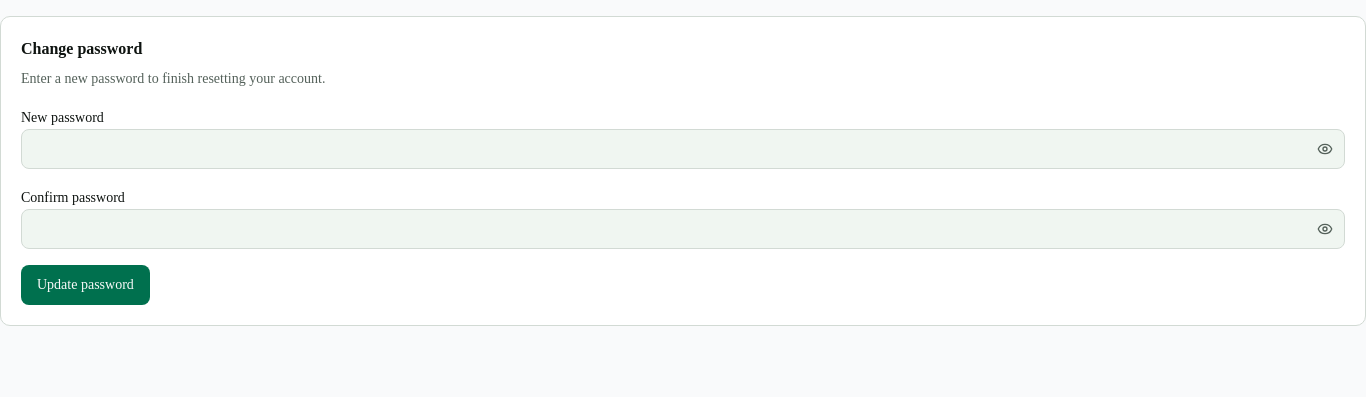
ChangePasswordForm › blocks mismatched password confirmation
The width and height of the screenshot is (1366, 397).
Type "secret123" into the password field labelled "New password" at (683, 149), box [21, 129, 1345, 169]
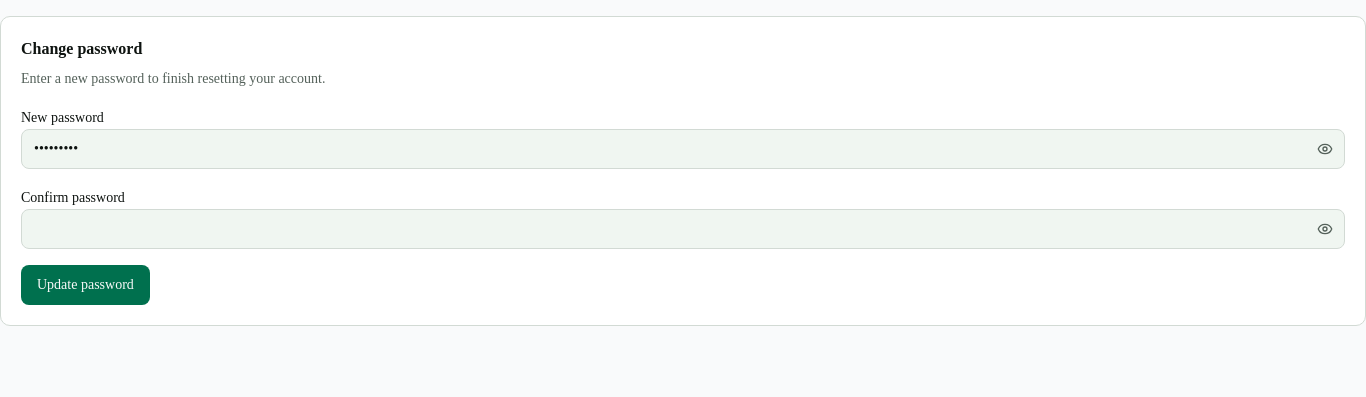
Type "different123" into the password field labelled "Confirm password" at (683, 229), box [21, 209, 1345, 249]
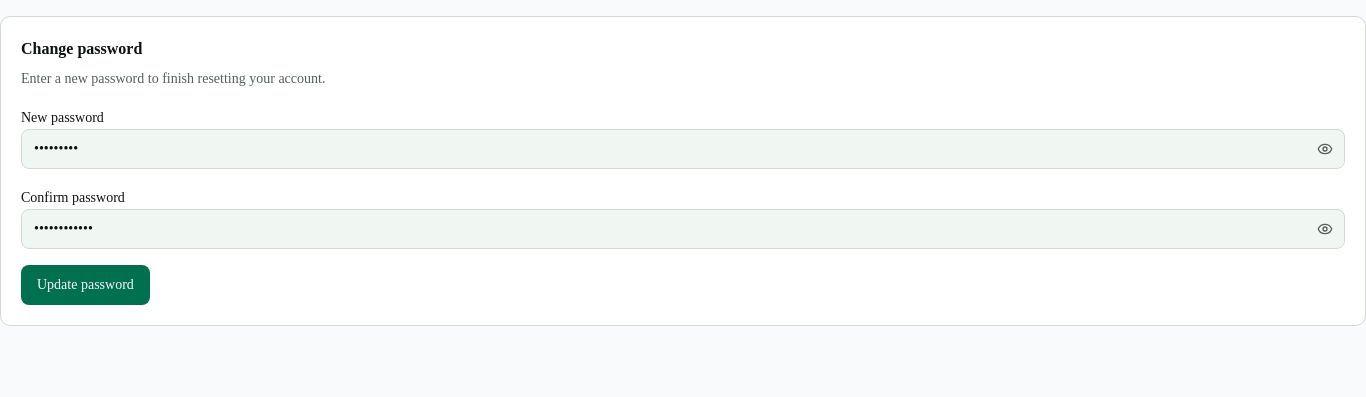
Click the button "Update password" at (85, 285), box [21, 265, 150, 305]
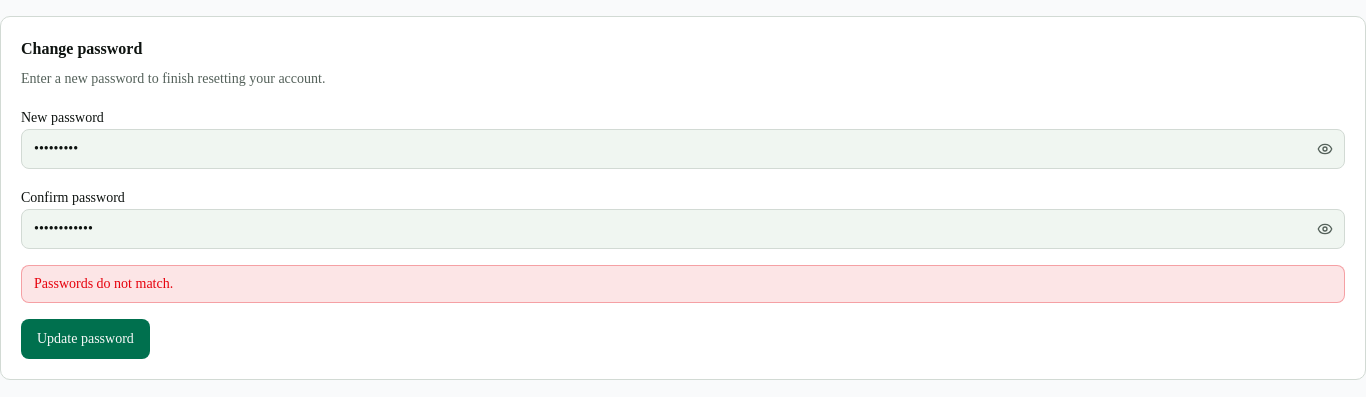
Result: the text "Passwords do not match." is shown at [21, 265, 1345, 303]
